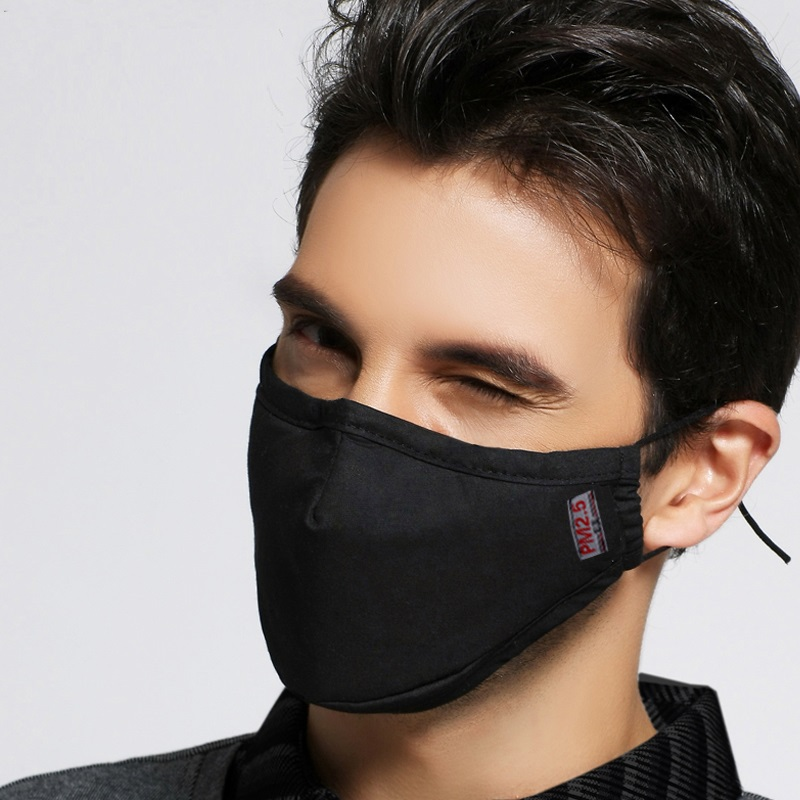face_mask: (250, 139, 652, 677)
